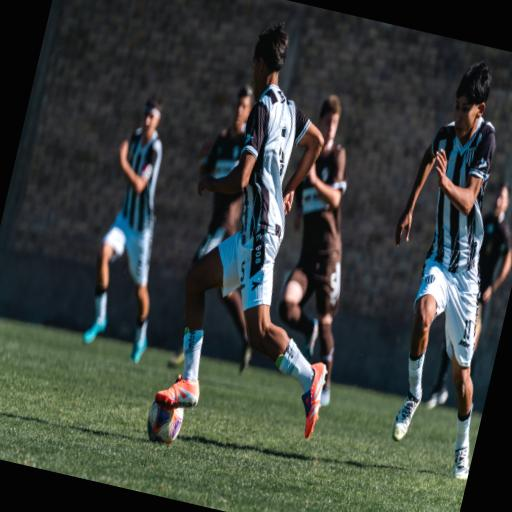shoe: (302, 363, 326, 438), (155, 376, 199, 409), (392, 392, 420, 441), (303, 319, 318, 360), (83, 319, 106, 344), (453, 447, 469, 480), (130, 336, 147, 363), (427, 389, 448, 409), (240, 343, 251, 373), (168, 351, 184, 368), (320, 390, 330, 406)
